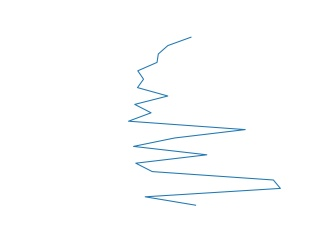crevasseRiverBedLagDeposit: (125, 34, 285, 211)
